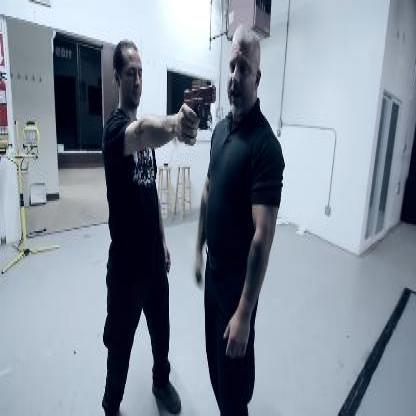pistol: (183, 81, 216, 118)
